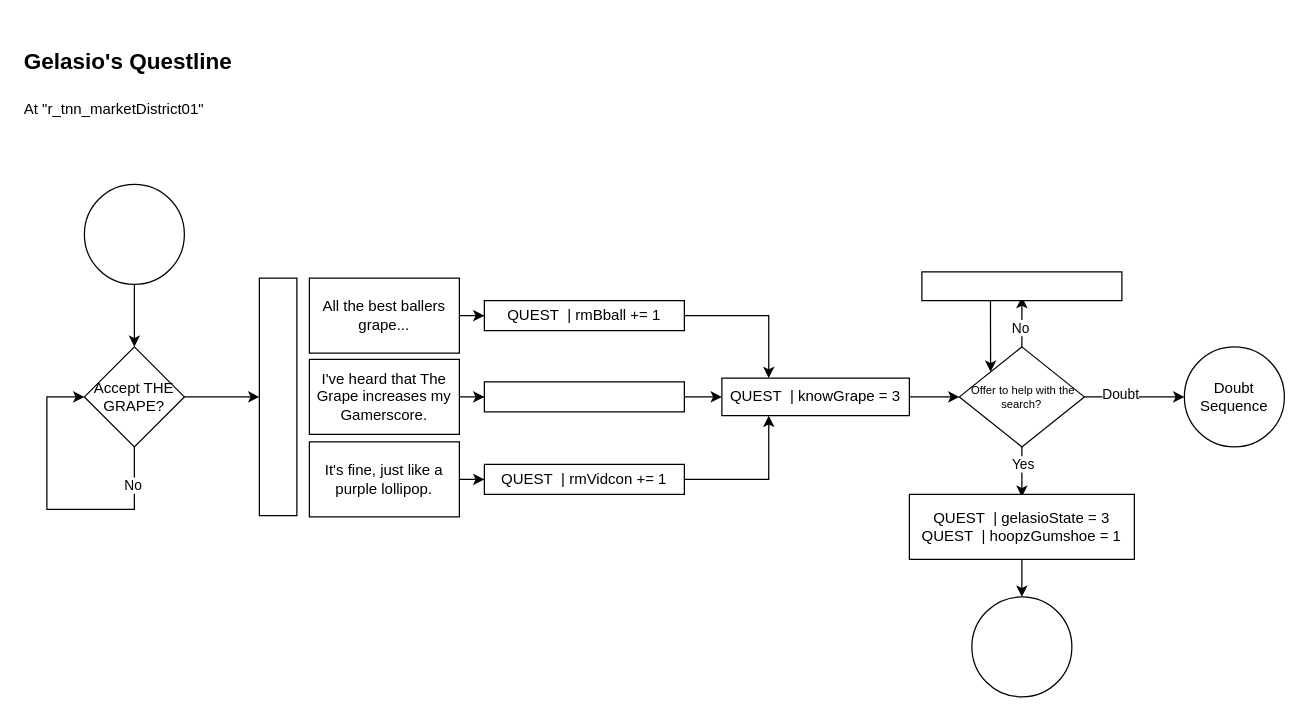
Some shapes in this 1306 by 719 pixel diagram are drawn without their labels. The shapes that lost their labels are listed below. From the top down, each one's centre as x and y in pixels, then its label:
At pixel 133 233: "Talk to Gelasio.".
At pixel 1021 286: "QUEST | gelasioState = 2".
At pixel 277 396: "Psych yourself up for the GRAPE?".
At pixel 583 396: "QUEST | rmCandy += 1".
At pixel 1021 646: "Gumshoe Sequence".
